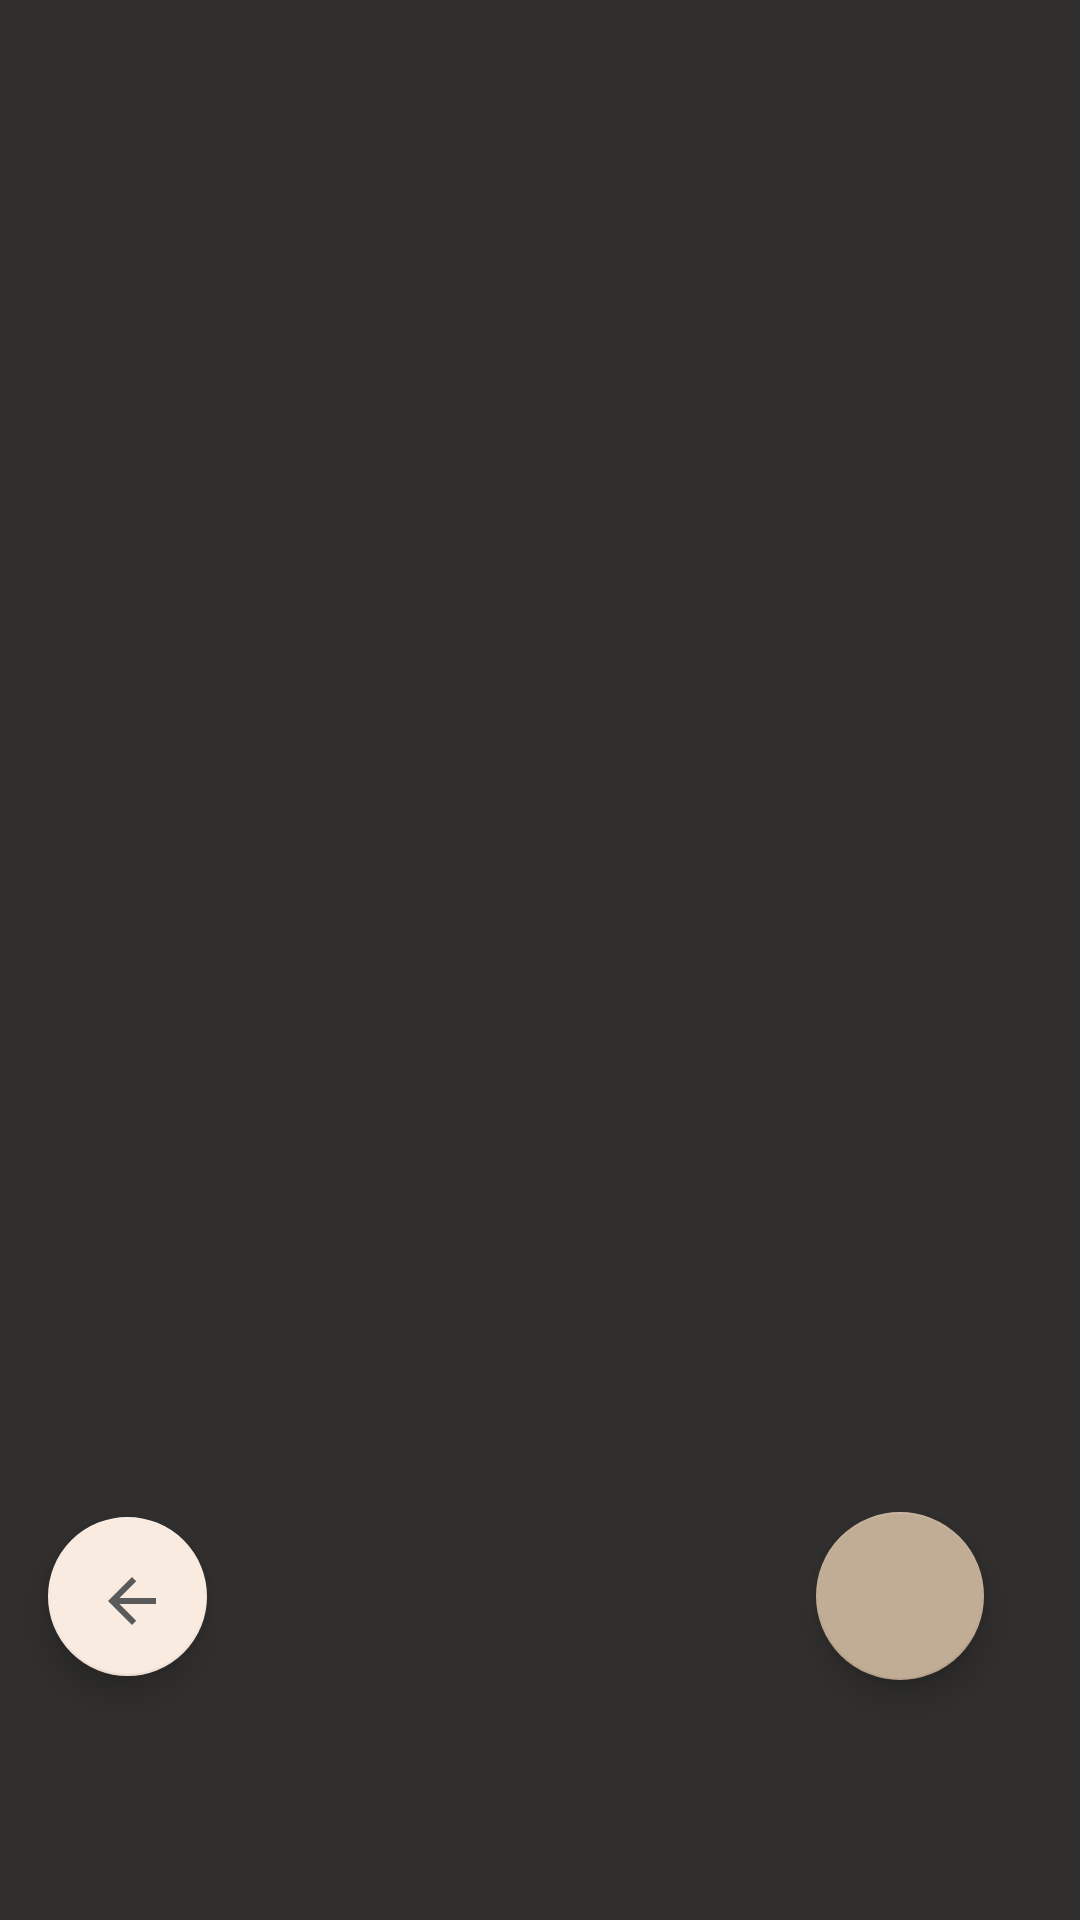

Icon bounding boxes for this 1080*1920 phone screenshot, format bbox(x1, y1, x2, y2):
back: bbox(48, 1517, 207, 1676)
